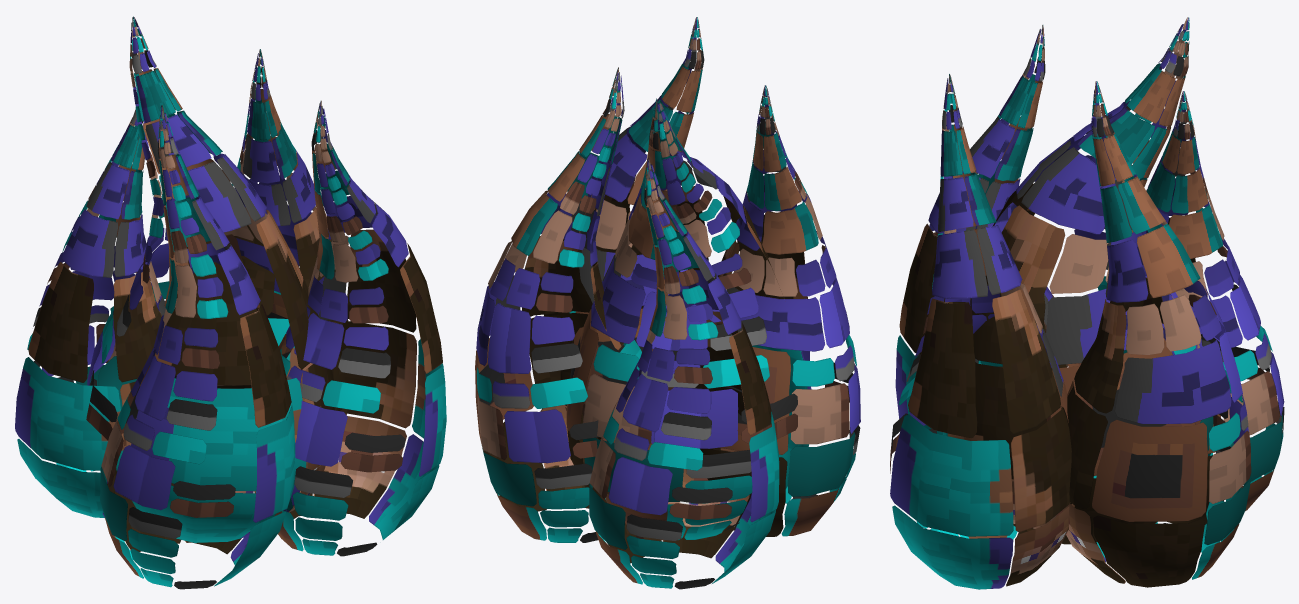
3 views of the same model, side by side, from view 1: azimuth 30°, elevation 25°; view 2: azimuth 150°, elevation 25°; view 3: azimuth 270°, elevation 25° (orthographic). The views are drawn at different scales.
Visible parts, largest first — view 1: flame_NurbsPath.015; view 2: flame_NurbsPath.015; view 3: flame_NurbsPath.015.
Boxes of the visible parts, box(x1,y1,x2,y2) form: flame_NurbsPath.015: box(15, 16, 446, 589); flame_NurbsPath.015: box(475, 17, 860, 589); flame_NurbsPath.015: box(890, 17, 1284, 589).
Bounding box in the file's own units: 0.7646 × 1.14 × 0.8.
